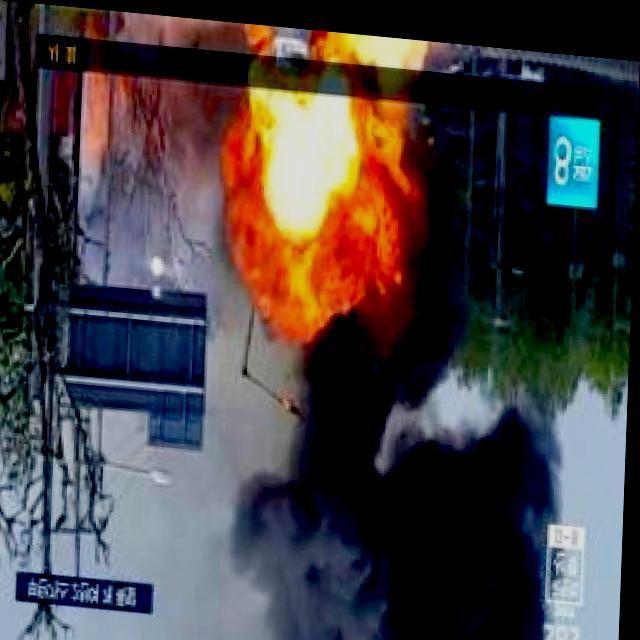Fire: (232, 24, 425, 297)
Smoke: (233, 343, 555, 640)
